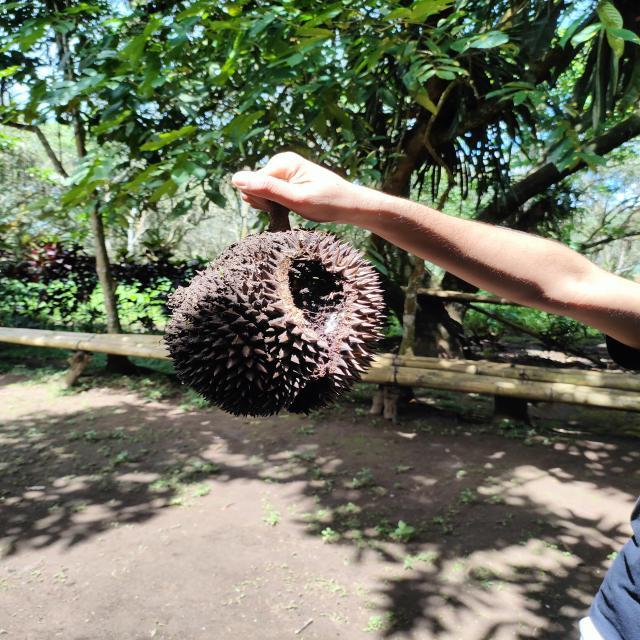defective: (159, 223, 391, 419)
